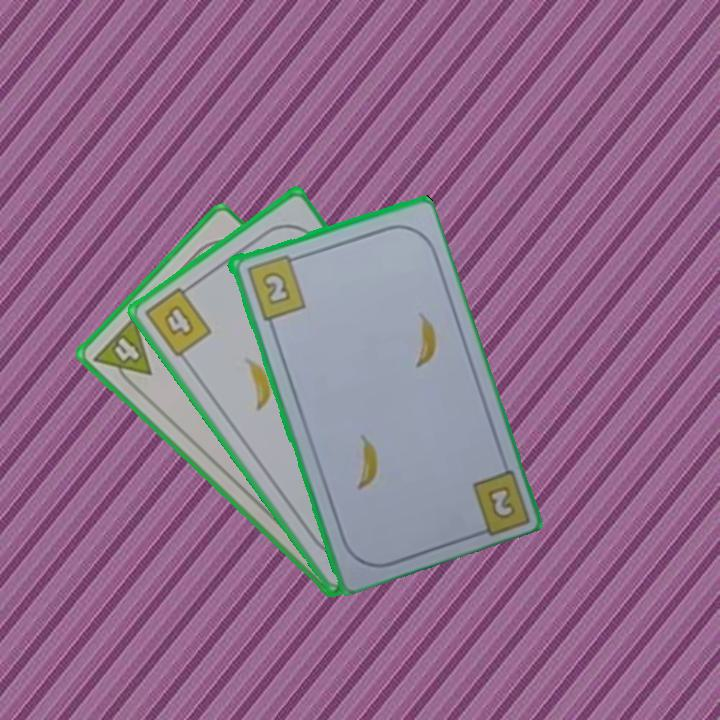2b: (242, 251, 308, 323), (486, 485, 515, 519)
4b: (140, 279, 215, 360)
4p: (89, 312, 155, 393)
